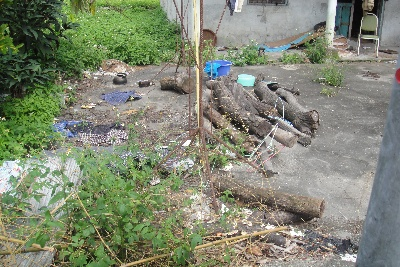bowl: (238, 73, 256, 87), (113, 74, 127, 86)
bucket: (206, 61, 232, 81)
